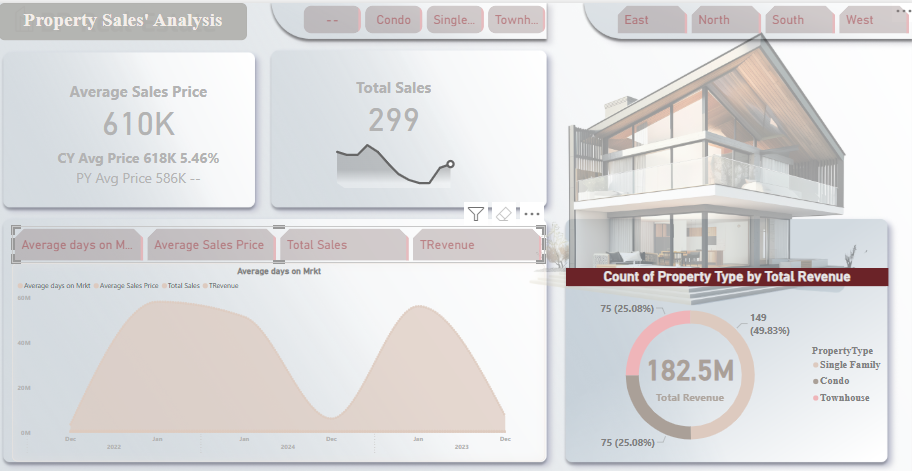

This screenshot's page, from the dashboard's own definition file:
{"tool":"powerbi","page":{"name":"Page 1","canvas":[1800,950],"ordinal":0},"visuals":[{"type":"image","box":[0,-10,1800,960],"z":0},{"type":"donutChart","title":"Count of Property Type by Total Revenue","fields":{"Category":["Property Dimension.PropertyType"],"Y":["CountNonNull(RealEstateSales.LastSaleDate)"]},"box":[1120,512,624,384],"z":0,"group":"g1"},{"type":"cardVisual","fields":{"Data":["CY Average.Average Sales Price","CY Average.Total Sales"]},"box":[48,96,984,312],"z":1000},{"type":"cardVisual","fields":{"Data":["CY Average.TRevenue"]},"box":[1240,656,240,144],"z":1000,"group":"g1"},{"type":"advancedSlicerVisual","fields":{"Values":["Line Chart Grad.Line Chart Grad"]},"box":[48,432,1032,72],"z":2000},{"type":"lineChart","fields":{"Y":["CY Average.Average days on Mrkt","CY Average.Average Sales Price","CY Average.Total Sales","CY Average.TRevenue"],"Category":["Calendar Table.Year Hierarchy.Year","Calendar Table.Year Hierarchy.Short Month Name"]},"box":[48,504,1032,384],"z":3000},{"type":"group","id":"g1","title":"Property Type","box":[1120,512,624,384],"z":4000},{"type":"advancedSlicerVisual","fields":{"Values":["Location Dimension Table.Region"]},"box":[1216,0,576,64],"z":5000},{"type":"advancedSlicerVisual","fields":{"Values":["Property Dimension.PropertyType"]},"box":[608,0,480,64],"z":6000},{"type":"textbox","box":[24,0,480,72],"z":7000}]}

Visuals, with their boxes in screenshot pixels (x1, y1, x2, y2), scaled from the page's 1800x950 canvas onto the 912x471 screenshot:
image: BBox(0, 0, 911, 470)
"Count of Property Type by Total Revenue" donutChart: BBox(567, 254, 884, 444)
cardVisual - CY Average.Average Sales Price x CY Average.Total Sales: BBox(24, 48, 523, 202)
cardVisual - CY Average.TRevenue: BBox(628, 325, 750, 397)
advancedSlicerVisual - Line Chart Grad.Line Chart Grad: BBox(24, 214, 547, 250)
lineChart - CY Average.Average days on Mrkt x CY Average.Average Sales Price: BBox(24, 250, 547, 440)
"Property Type" group: BBox(567, 254, 884, 444)
advancedSlicerVisual - Location Dimension Table.Region: BBox(616, 0, 908, 32)
advancedSlicerVisual - Property Dimension.PropertyType: BBox(308, 0, 551, 32)
textbox: BBox(12, 0, 255, 36)
